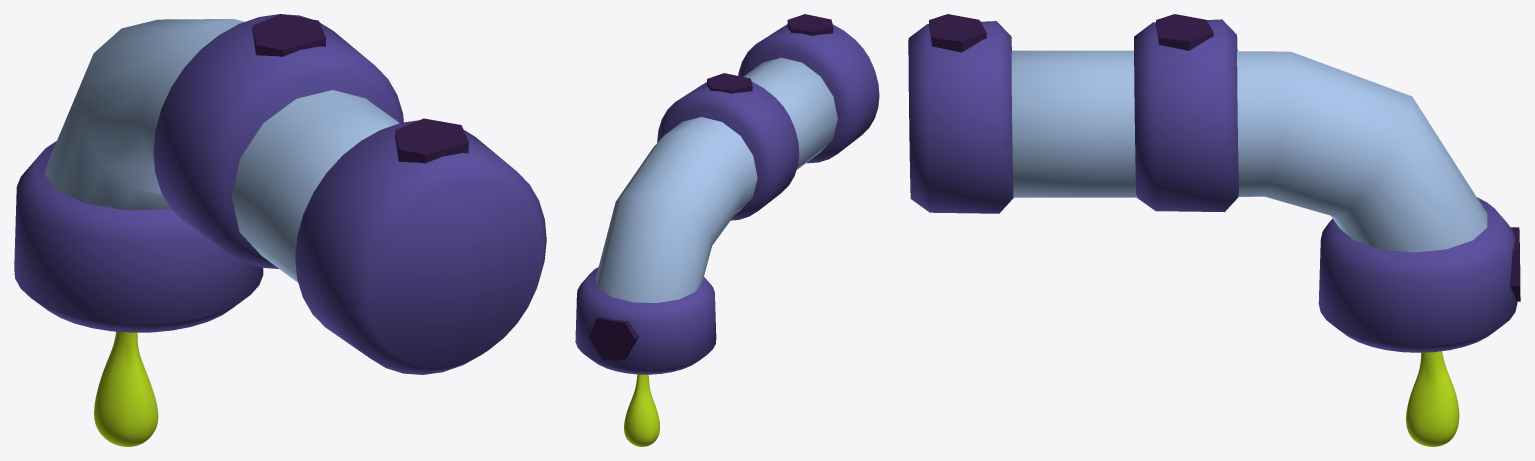
Rendered from enter.fbx.
3 views of the same model, side by side, from view 1: azimuth 30°, elevation 25°; view 2: azimuth 150°, elevation 25°; view 3: azimuth 270°, elevation 25° (orthographic). The views are drawn at different scales.
Parts seen in each view (by area): view 1: Circle.020, Vert.005, Circle, Circle.024, Cube.176, Vert.020, Vert.022; view 2: Vert.005, Circle, Circle.024, Circle.020, Cube.176, Vert.019, Vert.020, Vert.022; view 3: Vert.005, Circle, Circle.024, Circle.020, Cube.176, Vert.020, Vert.022, Vert.019.
Part boxes in pixels (left/top/right/bottom): Circle.020: left=295, top=120, right=546, bottom=374; Vert.005: left=44, top=19, right=399, bottom=282; Circle: left=14, top=141, right=263, bottom=332; Circle.024: left=153, top=14, right=403, bottom=268; Cube.176: left=94, top=331, right=158, bottom=446; Vert.020: left=395, top=118, right=468, bottom=163; Vert.022: left=252, top=14, right=326, bottom=56; Vert.005: left=595, top=57, right=837, bottom=302; Circle: left=575, top=267, right=716, bottom=374; Circle.024: left=657, top=82, right=799, bottom=220; Circle.020: left=738, top=24, right=879, bottom=163; Cube.176: left=624, top=374, right=659, bottom=446; Vert.019: left=589, top=316, right=639, bottom=360; Vert.020: left=787, top=14, right=833, bottom=35; Vert.022: left=707, top=73, right=752, bottom=93; Vert.005: left=1011, top=50, right=1487, bottom=252; Circle: left=1318, top=197, right=1517, bottom=352; Circle.024: left=1134, top=19, right=1238, bottom=212; Circle.020: left=908, top=21, right=1013, bottom=213; Cube.176: left=1406, top=351, right=1459, bottom=446; Vert.020: left=929, top=14, right=986, bottom=52; Vert.022: left=1156, top=14, right=1213, bottom=50; Vert.019: left=1510, top=227, right=1520, bottom=301.
Bounding box in the file's own units: 1093 × 2544 × 3371.
